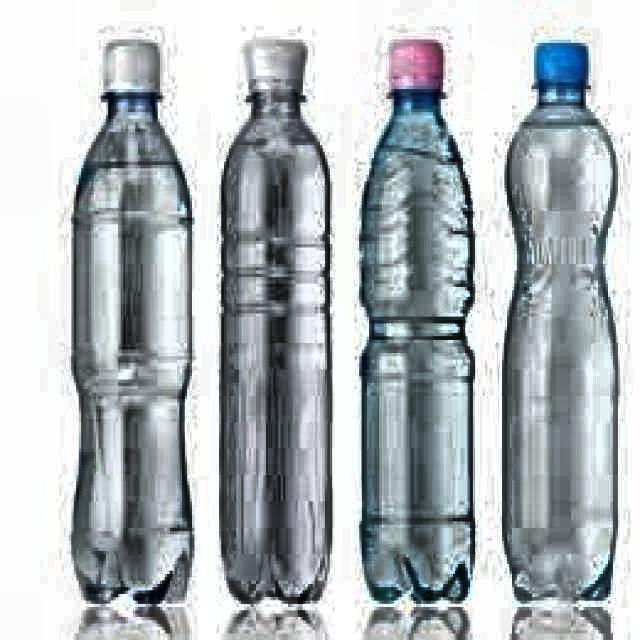plastic: (70, 37, 194, 621), (215, 39, 332, 608), (361, 38, 477, 606), (506, 42, 619, 605)
